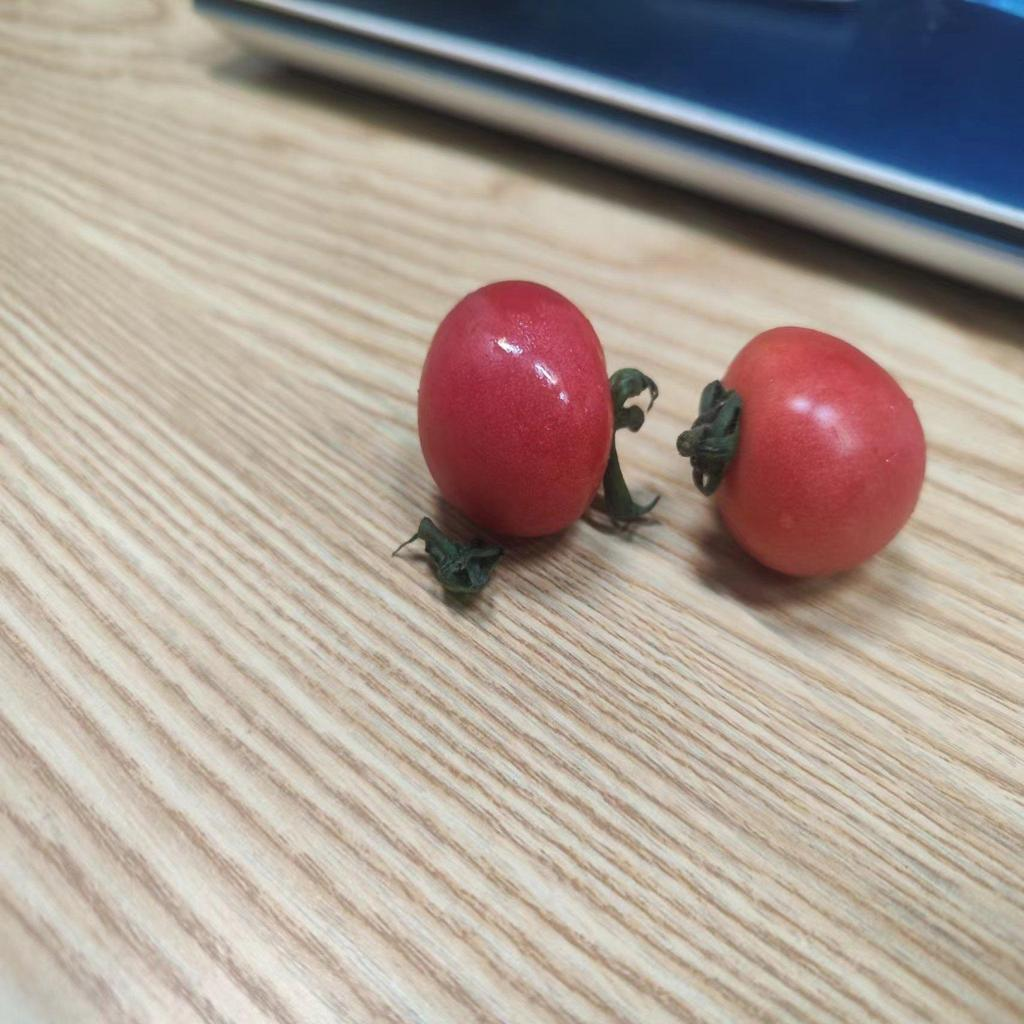tomato: (410, 277, 623, 558), (695, 327, 928, 571)
